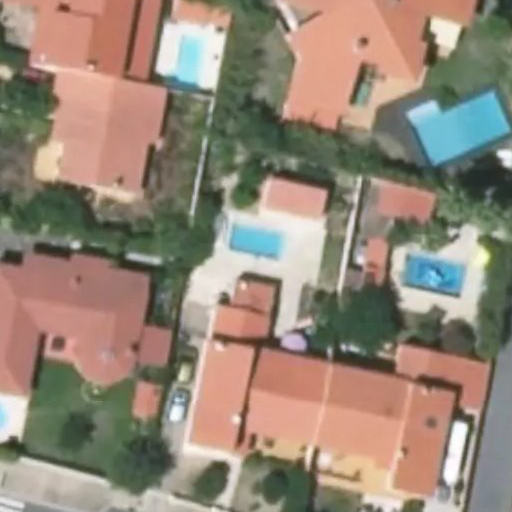pool: (407, 94, 512, 170), (404, 253, 470, 301), (227, 221, 287, 261), (175, 32, 204, 92)
